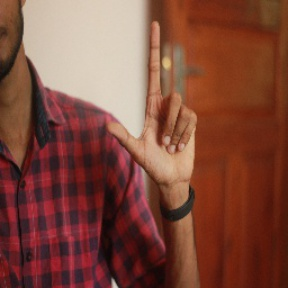L: (105, 21, 200, 180)
